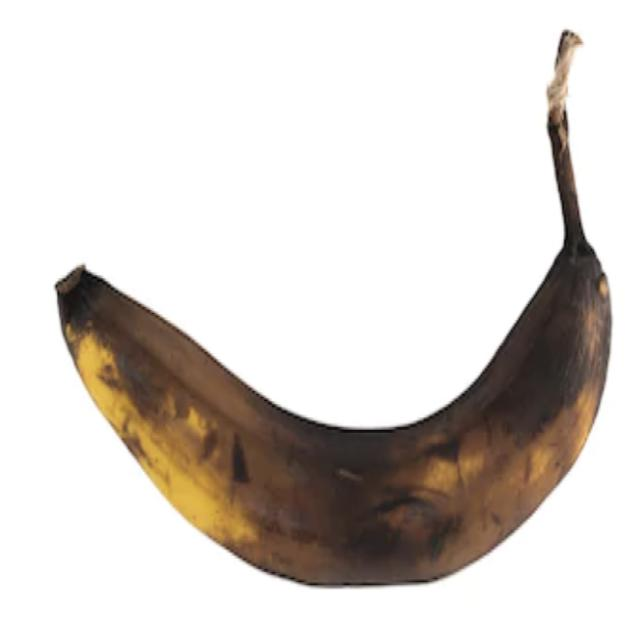rotten-banana: (53, 26, 614, 588)
